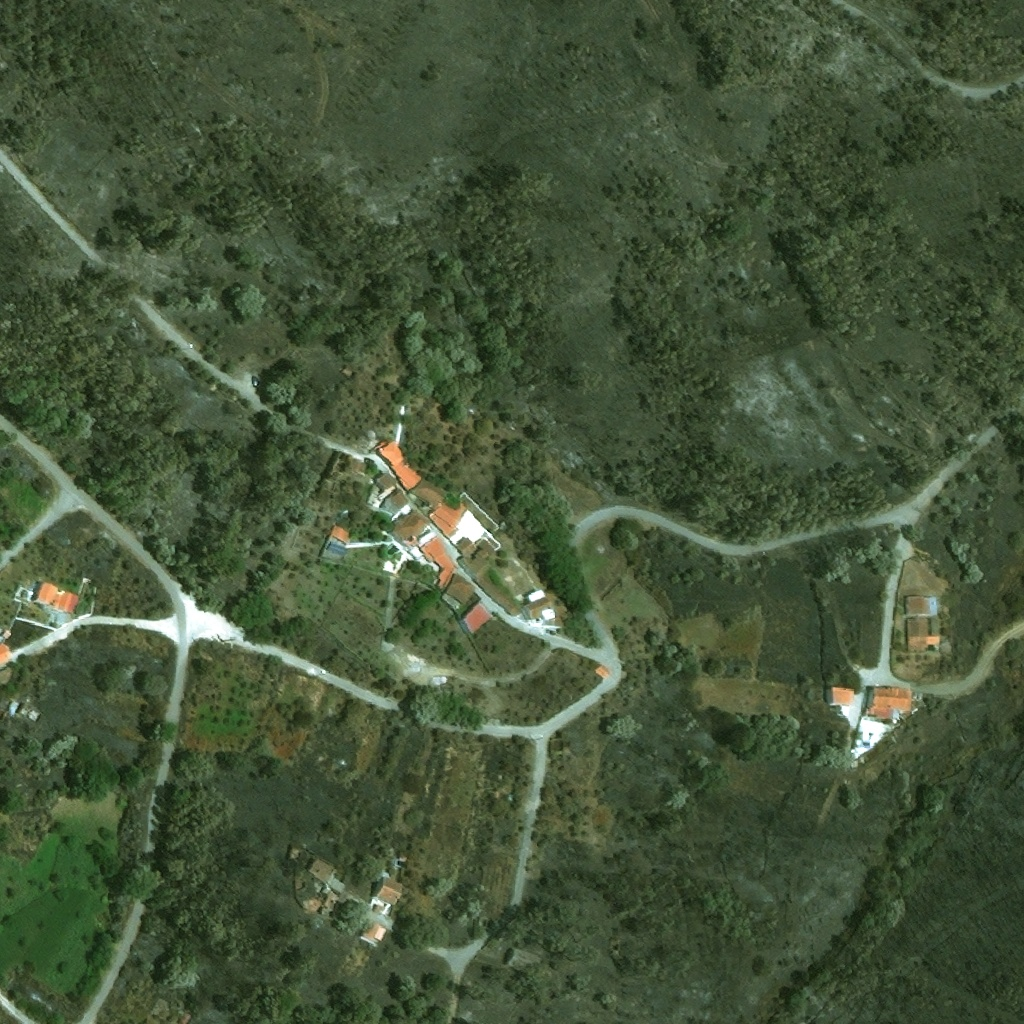0 no-damage: (409, 529, 457, 590), (377, 444, 422, 489), (476, 574, 523, 616), (457, 537, 496, 581), (864, 685, 912, 718), (429, 500, 468, 540), (392, 509, 429, 546), (440, 573, 477, 609), (458, 600, 493, 634), (521, 589, 556, 622), (379, 490, 412, 522), (412, 478, 448, 507), (907, 619, 939, 648), (33, 581, 65, 609), (373, 876, 403, 905), (306, 856, 334, 883), (503, 948, 532, 974), (906, 595, 937, 616), (374, 470, 399, 495), (57, 590, 80, 614), (330, 520, 352, 544), (454, 535, 479, 556), (828, 687, 855, 706), (327, 874, 349, 895), (364, 922, 381, 943), (542, 616, 565, 631), (327, 541, 348, 556), (594, 663, 611, 679), (0, 642, 11, 661), (375, 927, 387, 942), (372, 904, 385, 916), (2, 629, 11, 638)
1 minor-damage: (16, 701, 42, 723), (396, 853, 409, 862)
3 destroyed: (321, 450, 350, 484), (340, 363, 358, 380)
